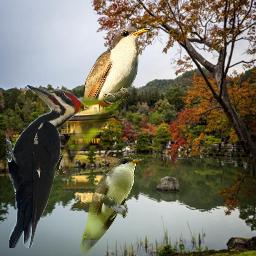Cuckoo: (51, 23, 154, 179), (78, 156, 145, 254)
Woodpecker: (6, 83, 93, 248)
